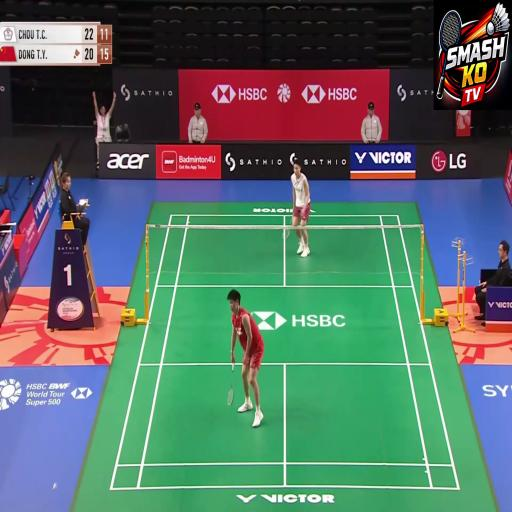player: (210, 290, 272, 436), (279, 147, 320, 280)
